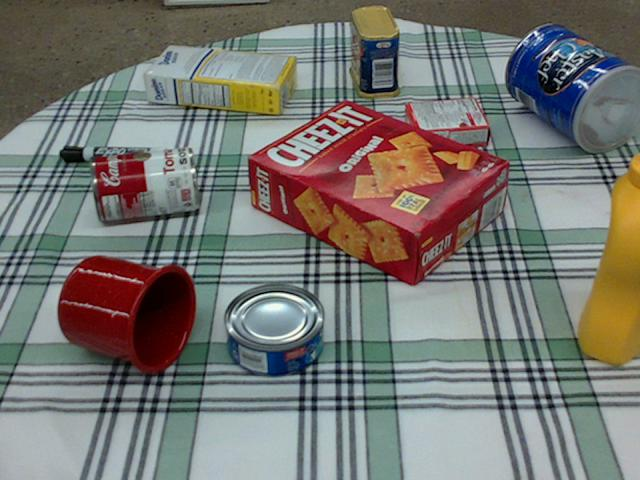cracker_box: (249, 98, 508, 283)
gelatin_box: (402, 93, 489, 152)
large_marker: (59, 146, 166, 162)
master_chef_can: (503, 24, 639, 152)
mug: (57, 256, 195, 372)
mustard_bottle: (577, 151, 639, 362)
potted_meat_can: (347, 5, 399, 97)
sugar_box: (144, 45, 297, 113)
tomato_soup_can: (89, 145, 199, 221)
tuna_fish_can: (222, 283, 323, 377)
